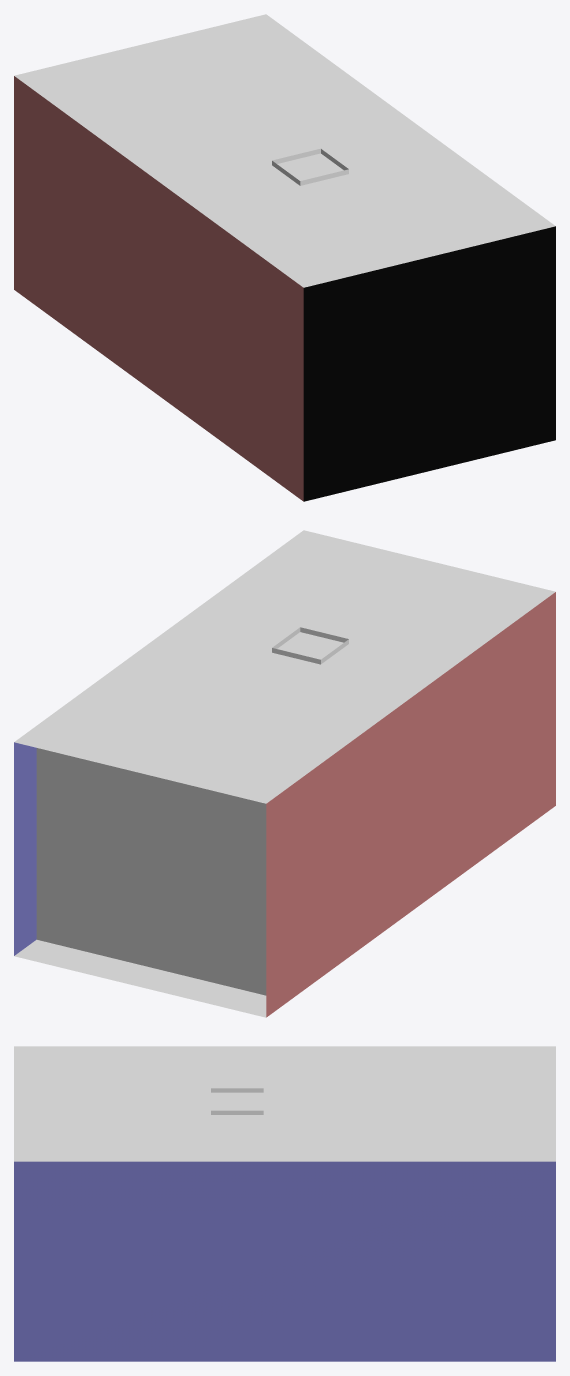
Rendered from allOptionsOld.dae.
The picture shows the model from 3 angles, top to bottom: view 1: azimuth 30°, elevation 25°; view 2: azimuth 150°, elevation 25°; view 3: azimuth 270°, elevation 25°; orthographic projection. The views are drawn at different scales.
Parts seen in each view (by area): view 1: Top, Left, Front, Light; view 2: Top, Left, Back, Bottom, Right, Light; view 3: Right, Top, Light.
Part boxes in pixels (box(x1,y1,x2,y2)): Top: box(14, 14, 555, 287); Left: box(14, 76, 303, 501); Front: box(303, 226, 555, 501); Light: box(272, 148, 348, 185); Top: box(14, 530, 555, 803); Left: box(266, 592, 555, 1017); Back: box(36, 748, 266, 995); Bottom: box(14, 939, 266, 1017); Right: box(14, 742, 36, 955); Light: box(272, 627, 348, 664); Right: box(14, 1161, 555, 1361); Top: box(14, 1046, 555, 1161); Light: box(211, 1088, 263, 1114).
Bounding box in the file's own units: 7.83 × 15.58 × 6.52.
